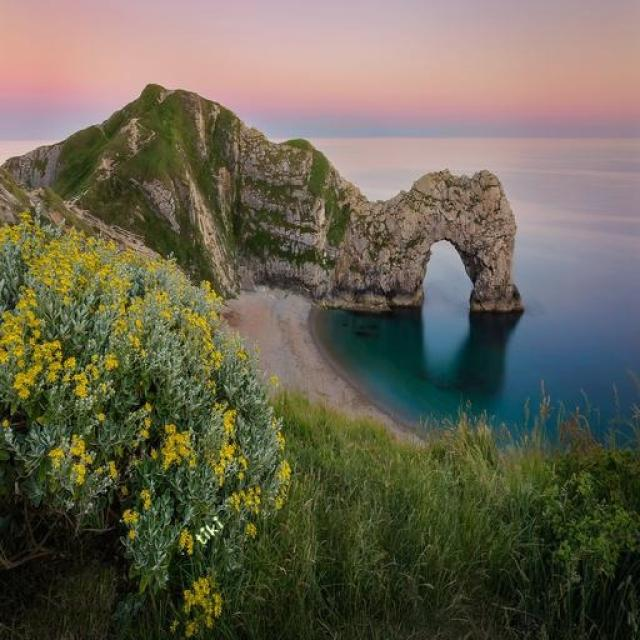watermark: (195, 512, 225, 550)
